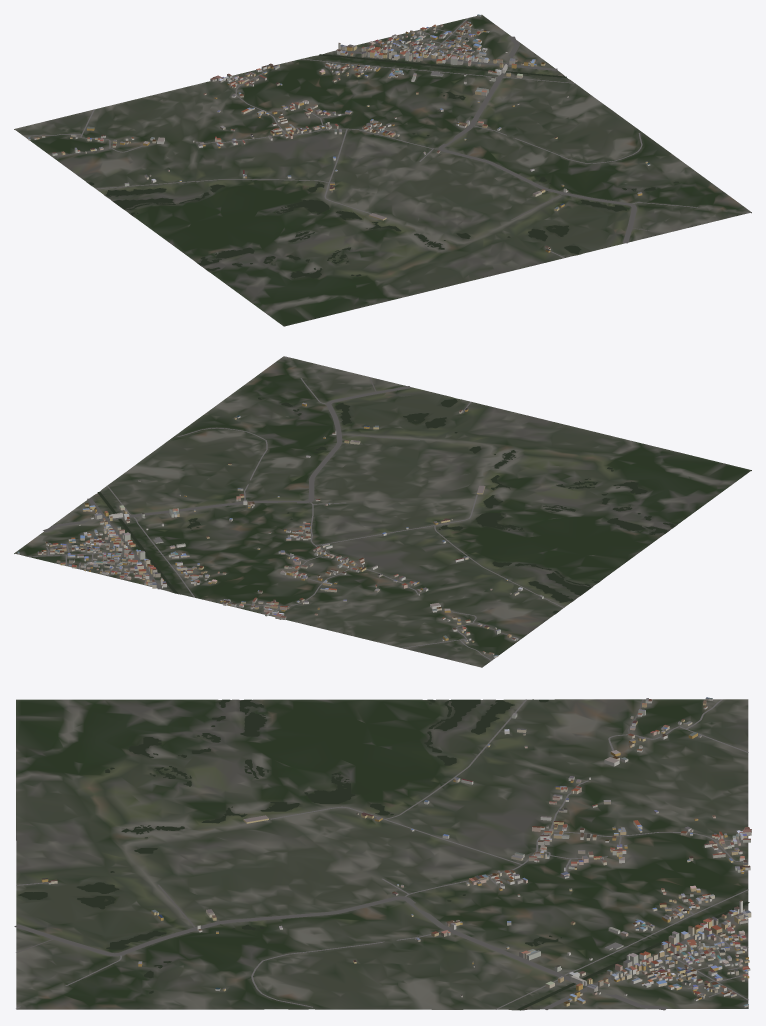
3 views of the same model, one above another, from view 1: azimuth 30°, elevation 25°; view 2: azimuth 150°, elevation 25°; view 3: azimuth 270°, elevation 25° (orthographic). The views are drawn at different scales.
Parts seen in each view (by area): view 1: ground, buildings, water, roads; view 2: ground, buildings, water, roads; view 3: ground, buildings, water, roads.
Boxes of the visible parts, bbox=[...] form: ground: bbox=[14, 14, 751, 326]; buildings: bbox=[28, 14, 650, 252]; water: bbox=[88, 54, 678, 278]; roads: bbox=[24, 18, 749, 258]; ground: bbox=[14, 356, 751, 667]; buildings: bbox=[17, 402, 543, 657]; water: bbox=[97, 397, 675, 613]; roads: bbox=[27, 356, 563, 660]; ground: bbox=[16, 699, 748, 1010]; buildings: bbox=[41, 697, 751, 1007]; water: bbox=[18, 699, 749, 1010]; roads: bbox=[14, 699, 748, 1010].
Bounding box in the file's own units: 1412 × 30.97 × 1413.
